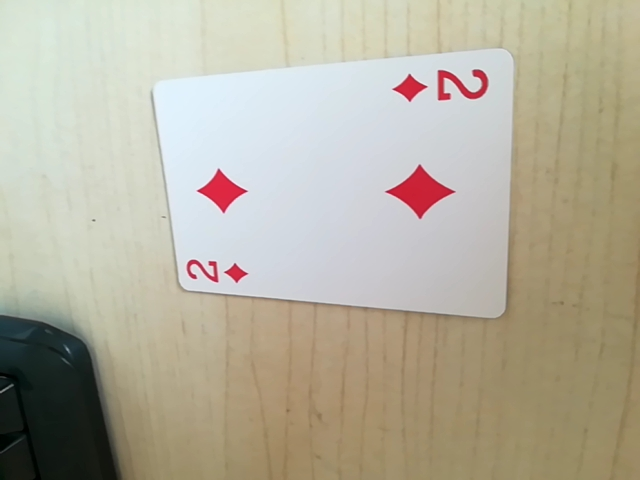fk 2: (394, 60, 498, 111), (181, 251, 253, 291)
